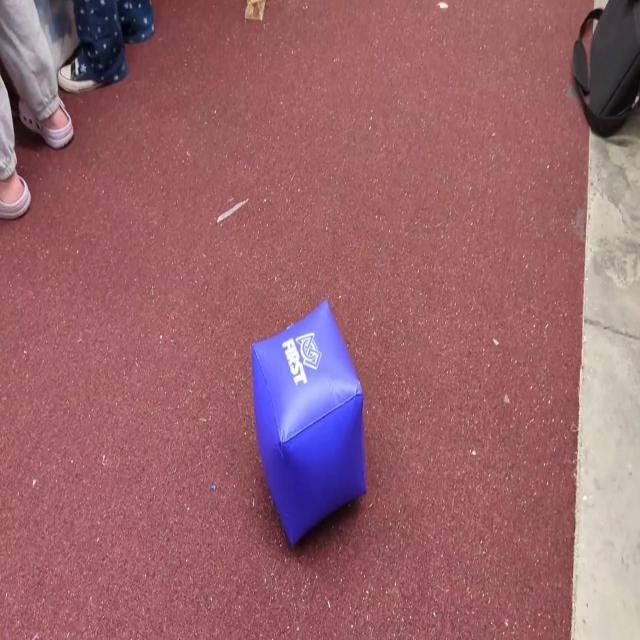frc_cube: (252, 297, 366, 547)
